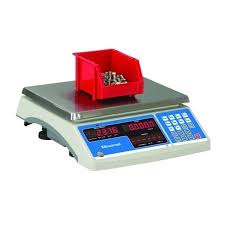Industrial Scale: (15, 78, 212, 172)
